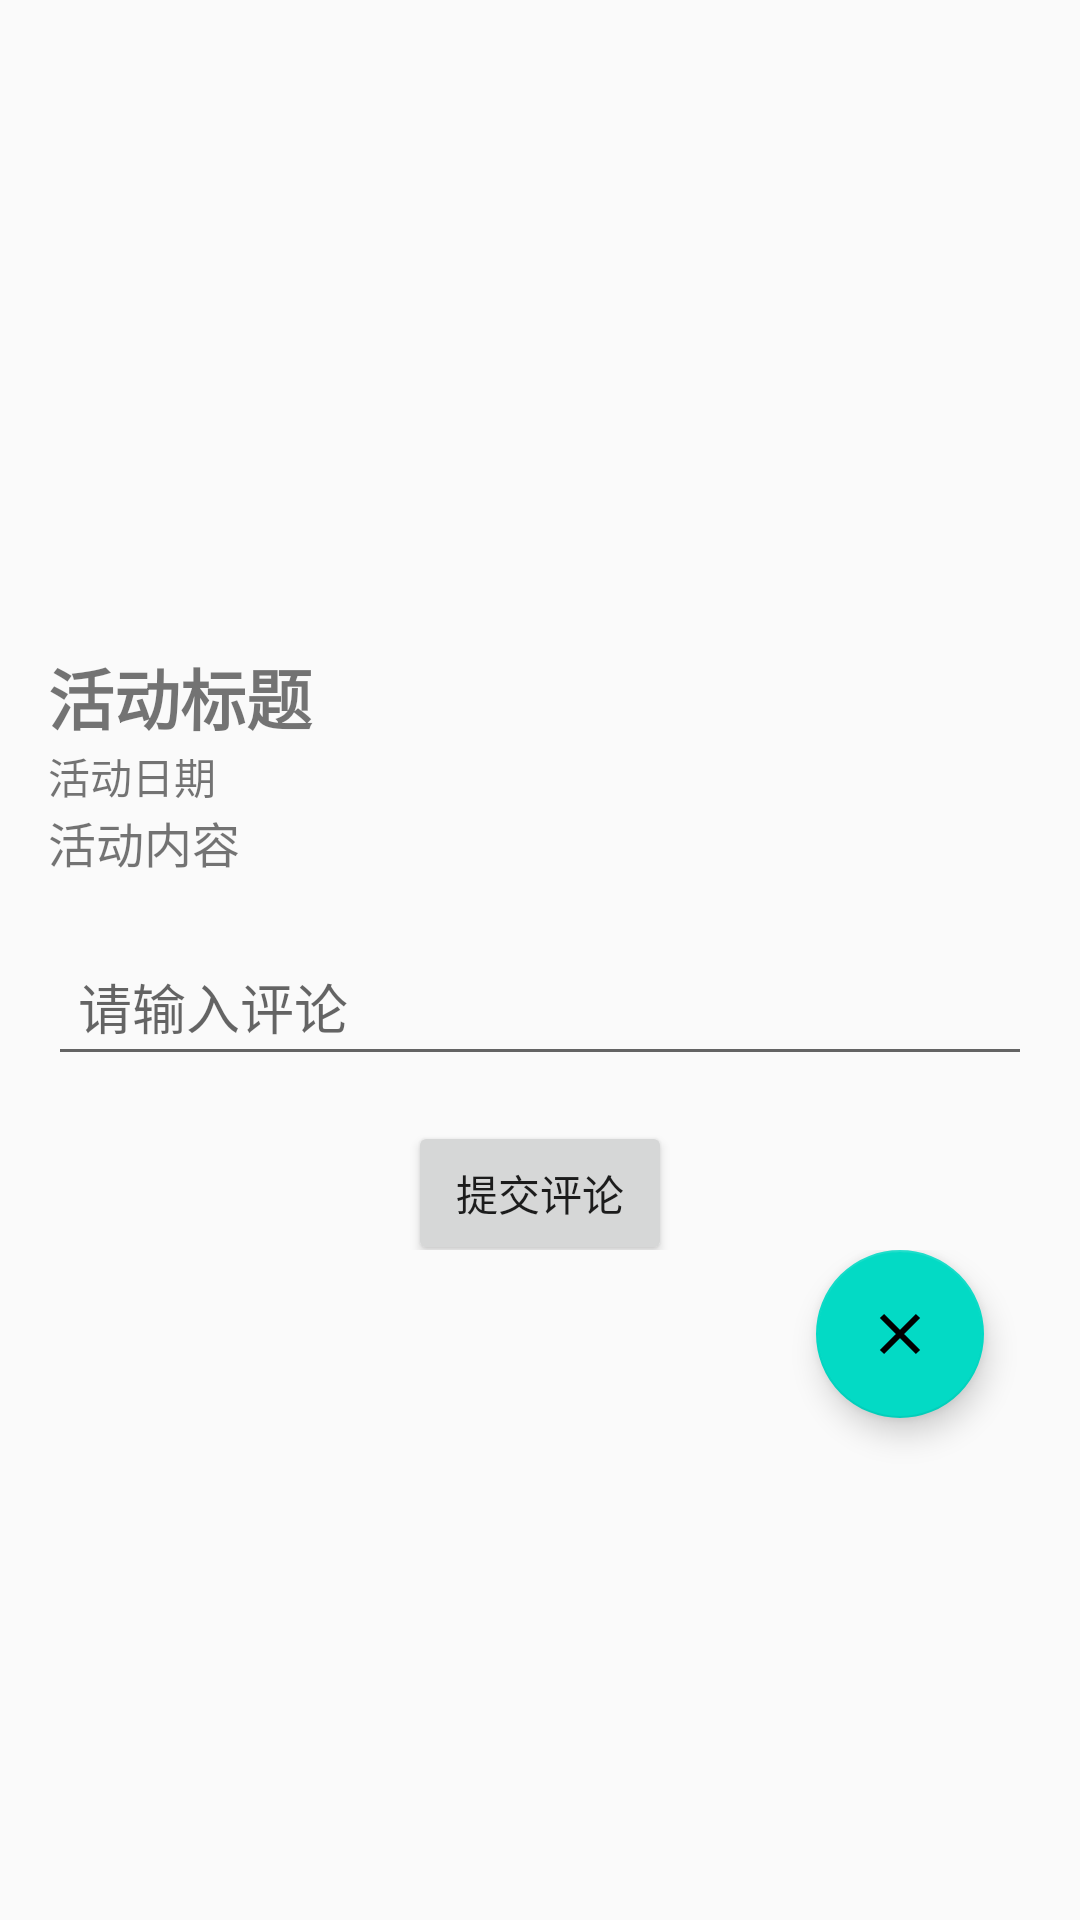

Where icons sit on this 1080x1920 app screen, as (x1, y1, x2, y2):
delete: (816, 1250, 984, 1418)
